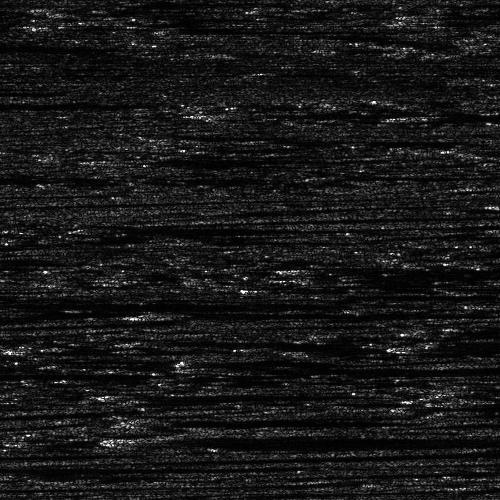object: (371, 110, 454, 121), (391, 5, 444, 22), (479, 13, 500, 20), (125, 22, 136, 31)
shadow: (0, 34, 121, 59), (0, 97, 119, 110), (418, 5, 500, 22), (0, 83, 90, 94), (413, 110, 500, 121), (130, 22, 193, 31)
